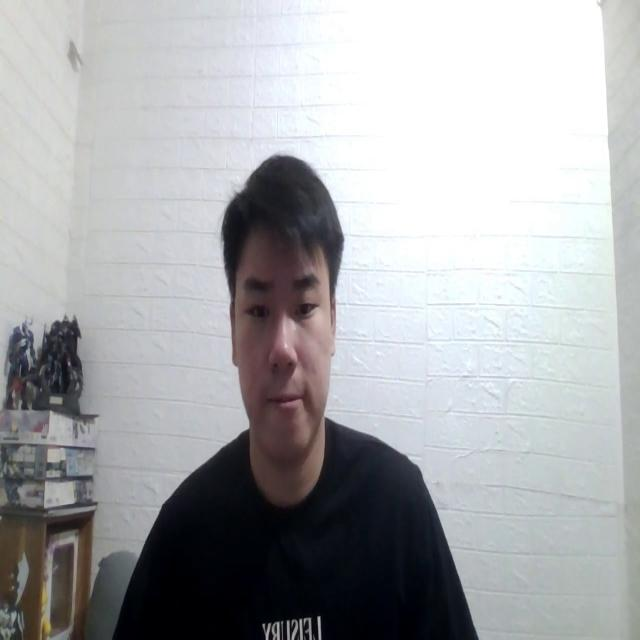student: (116, 148, 474, 640)
